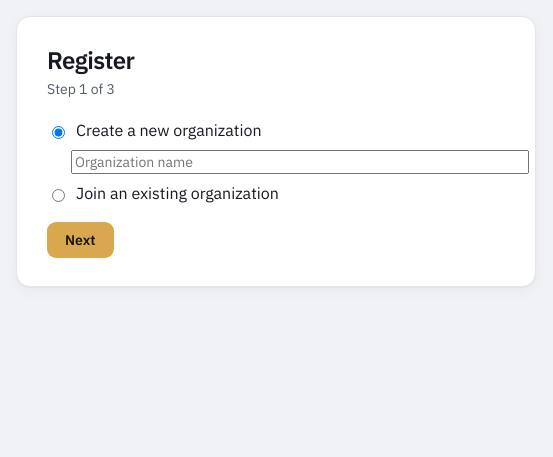
it: Register › creating a new org registers the user as owner
This screenshot has width=553, height=457.
In the field labelled "Organization name": (300, 162) [71, 150, 529, 174], type "Acme"
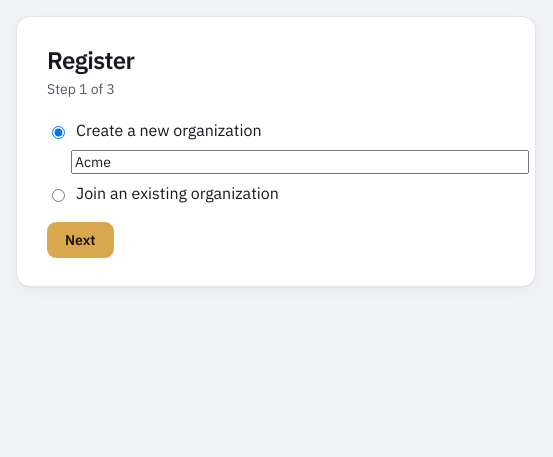
Click the button "Next": (80, 240) [47, 222, 114, 258]
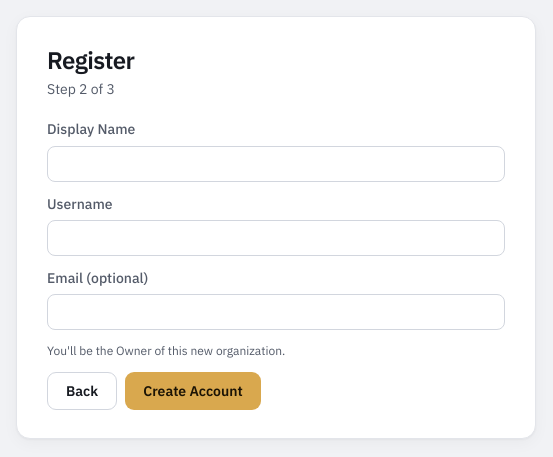
Check: the field labelled "Display Name" is shown
In the field labelled "Display Name": (276, 164) [47, 146, 505, 182], type "Seth"
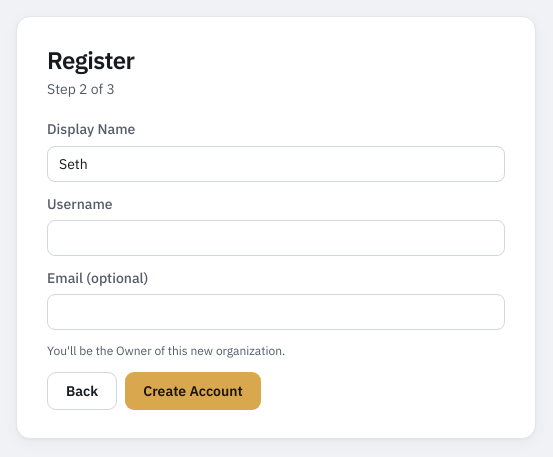
In the field labelled "Username": (276, 238) [47, 220, 505, 256], type "seth"
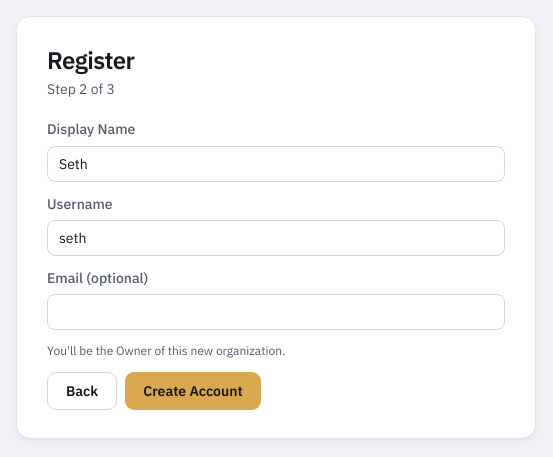
Click the button "Create Account": (193, 391) [125, 372, 261, 410]
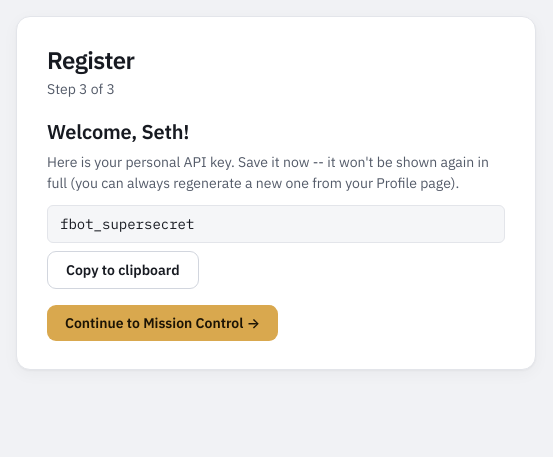
Check: the text "fbot_supersecret" is shown, box [47, 205, 505, 243]
